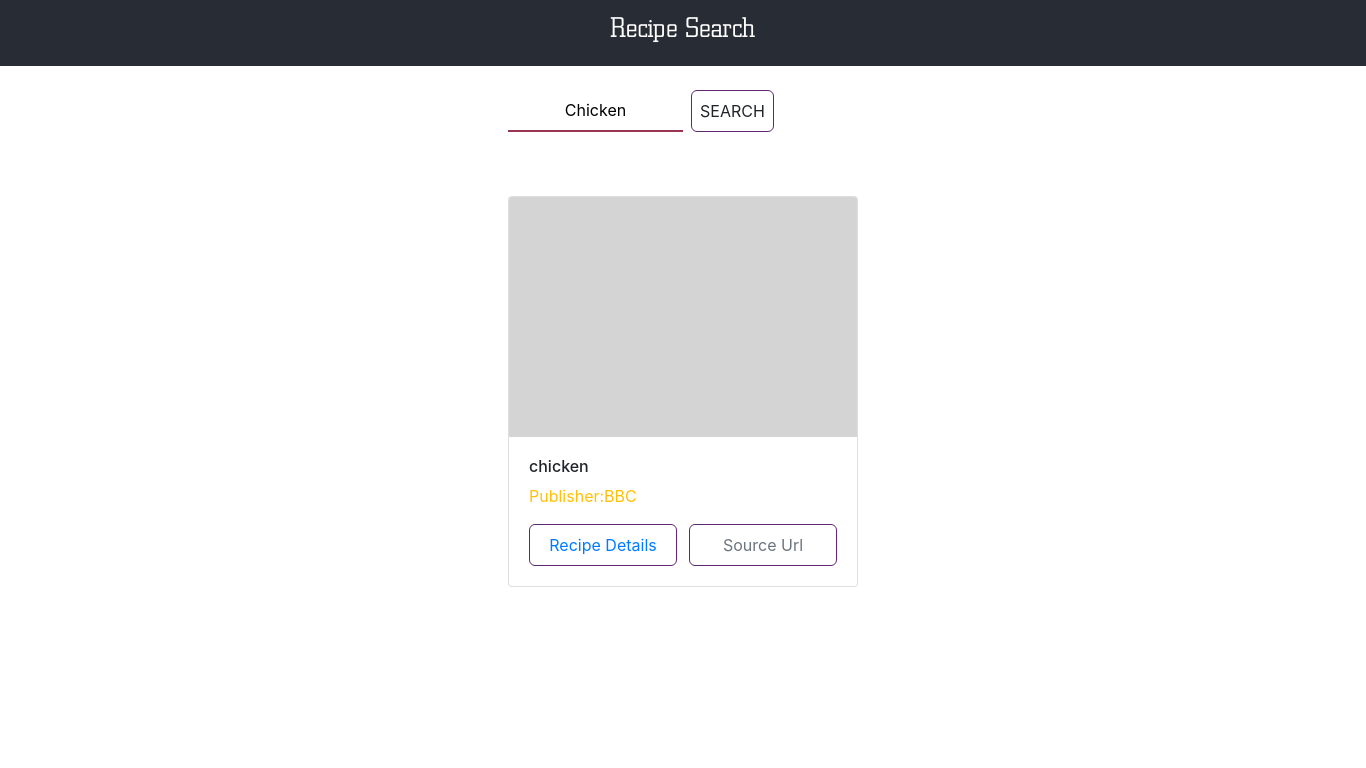
Scenario: Home page › fetches new recipes when user searches
Replace the text in the field named "recipeName" with "Pasta" at (596, 111), box 508,90 -> 683,132
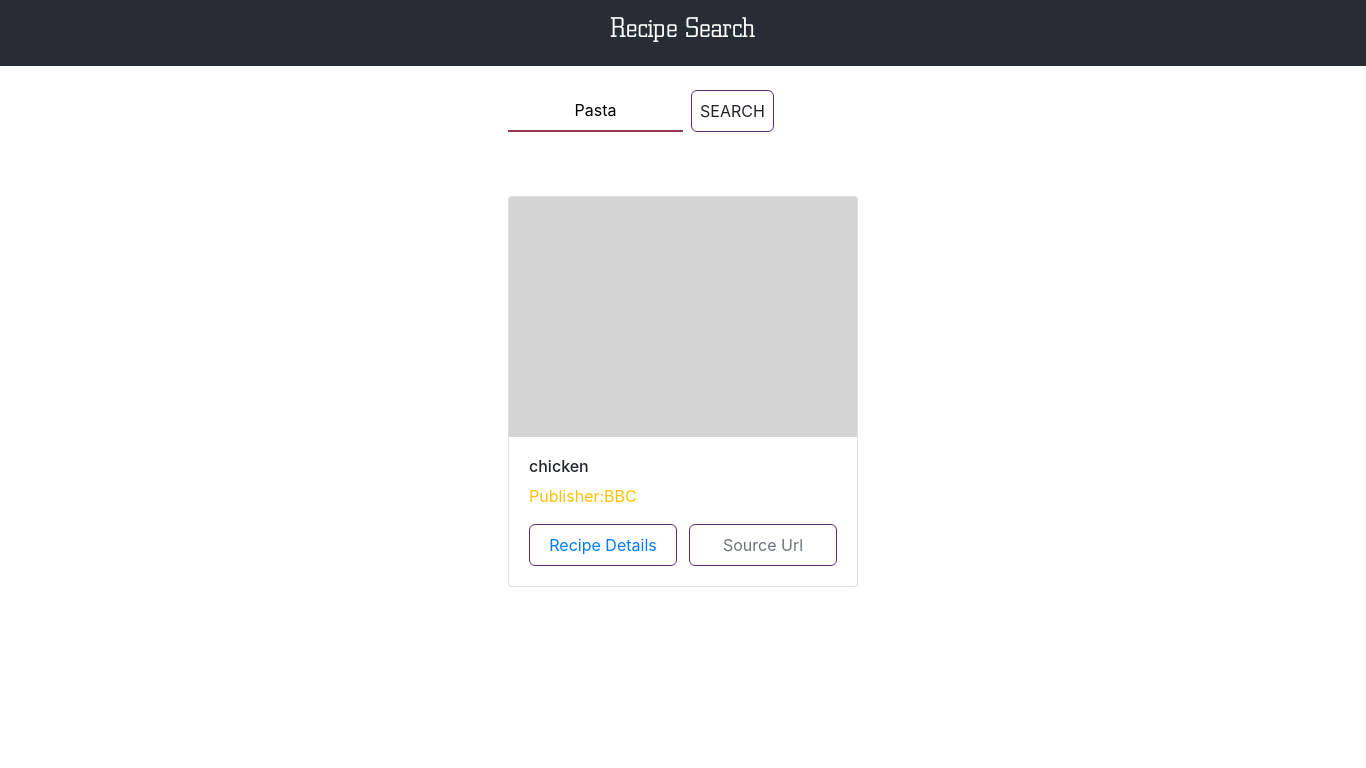
Click the button "search" at (732, 111), box 691,90 -> 774,132
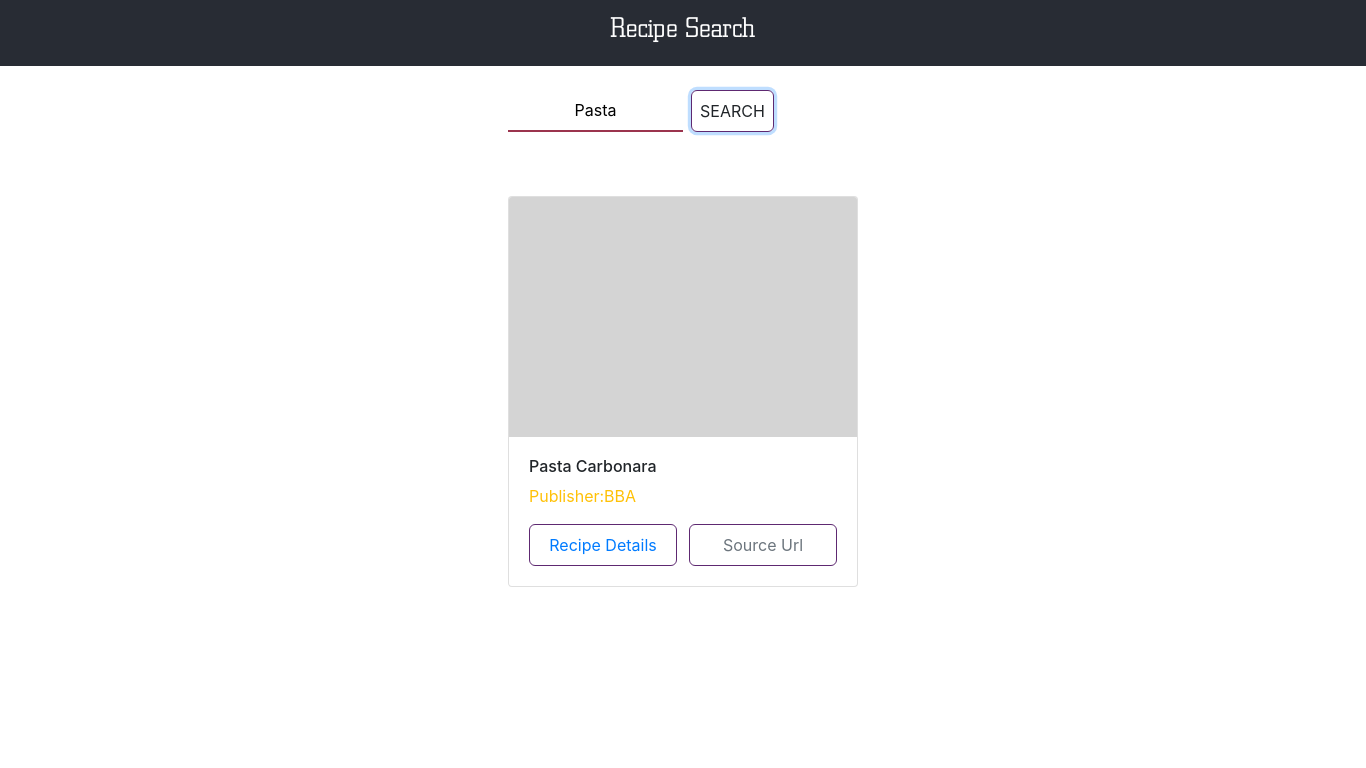
Now the heading "Pasta Carbonara" is shown, box 529,456 -> 656,476
